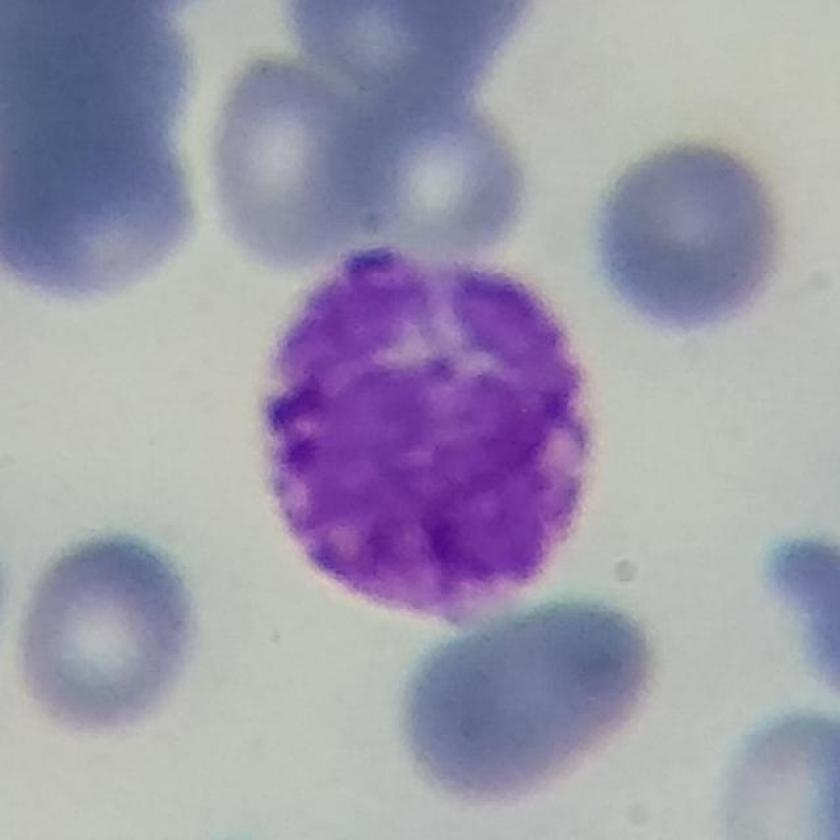basophil: (256, 221, 600, 643)
